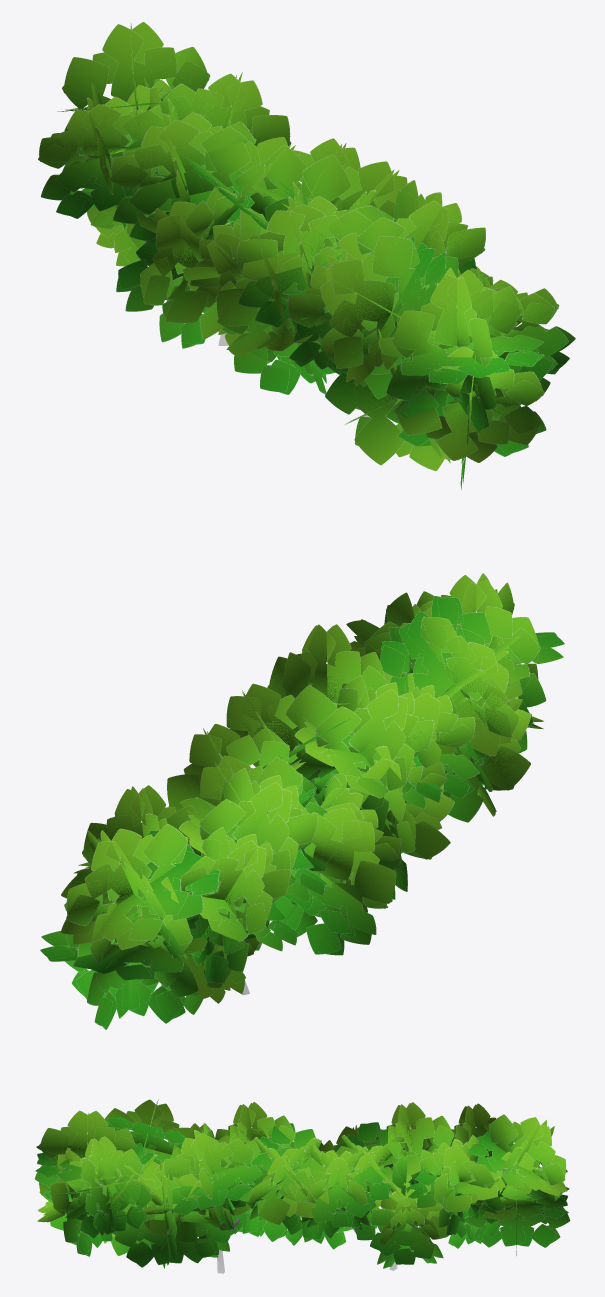
File: TSP_Fence_Green_01A.fbx
3 views of the same model, one above another, from view 1: azimuth 30°, elevation 25°; view 2: azimuth 150°, elevation 25°; view 3: azimuth 270°, elevation 25° (orthographic). The views are drawn at different scales.
Parts seen in each view (by area): view 1: TSP_Fence_Green_01A; view 2: TSP_Fence_Green_01A; view 3: TSP_Fence_Green_01A.
Boxes of the visible parts, x1,y1,x2,y2 form: TSP_Fence_Green_01A: (38,22,575,490); TSP_Fence_Green_01A: (40,573,564,1029); TSP_Fence_Green_01A: (34,1099,570,1273).
Bounding box in the file's own units: 1.89 × 1.66 × 4.76.
